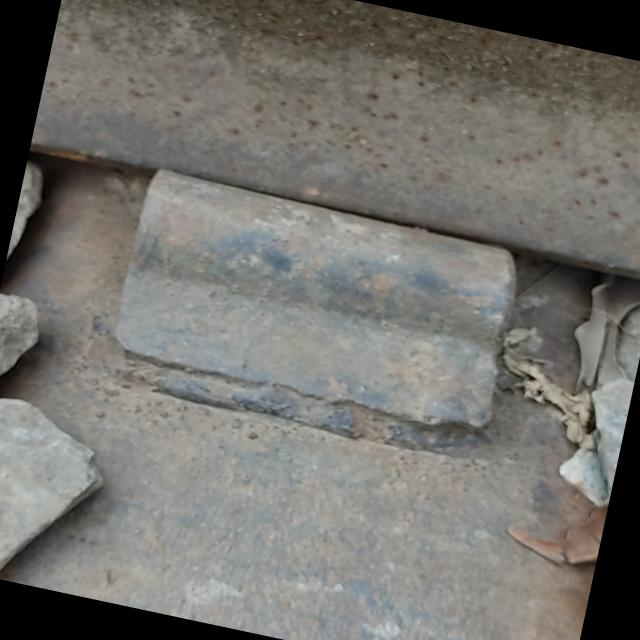track_bolt_missing: (112, 159, 536, 378)
